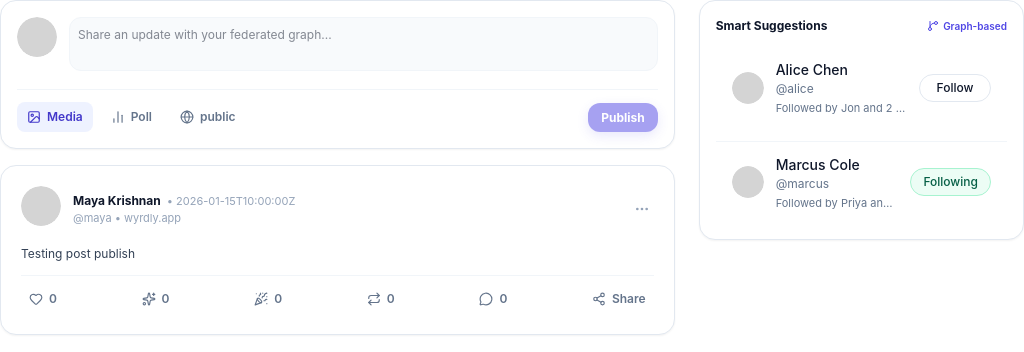
Test: FeedPage Component › reactions (#123) › LIKE → LIKE removes the reaction and decrements without reloading
expect the element with test id "post-card-post-1" is shown: met, box [0,165,675,335]
What coordinates should you click on to do the following:
click the button with test id "like-btn"
I would click on:
 (43, 299)
Its box is [21,284,65,314].
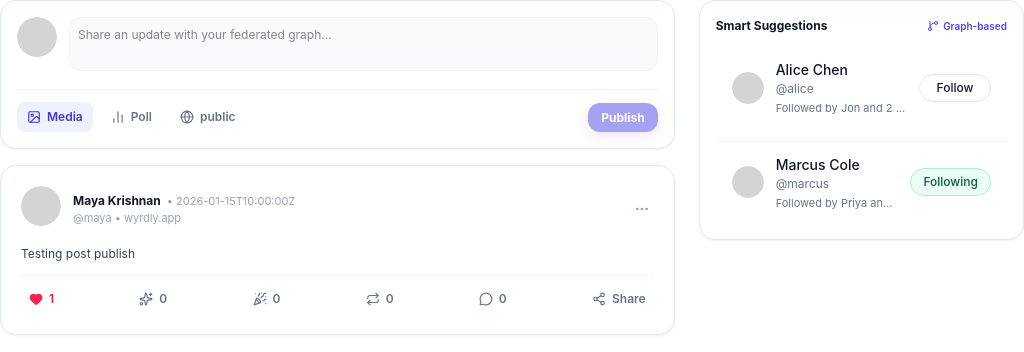
expect the button with test id "like-btn" reads "1": met
What coordinates should you click on to do the following:
click the button with test id "like-btn"
I would click on:
 (42, 299)
Its box is [21,284,62,314].
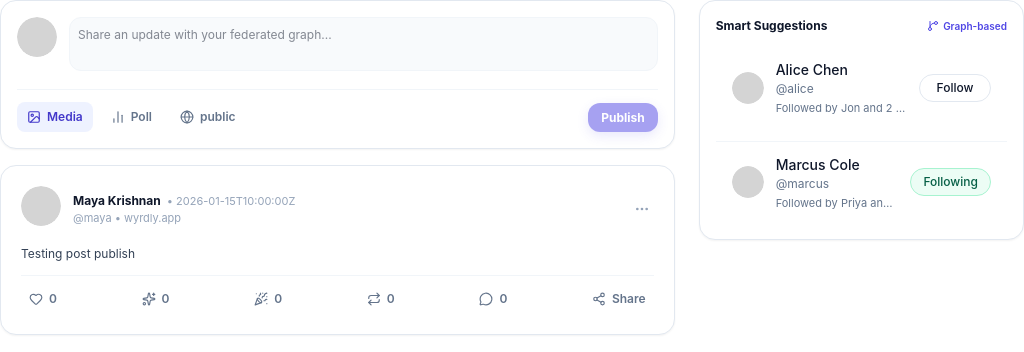
expect the button with test id "like-btn" reads "0": met, box [21,284,65,314]
